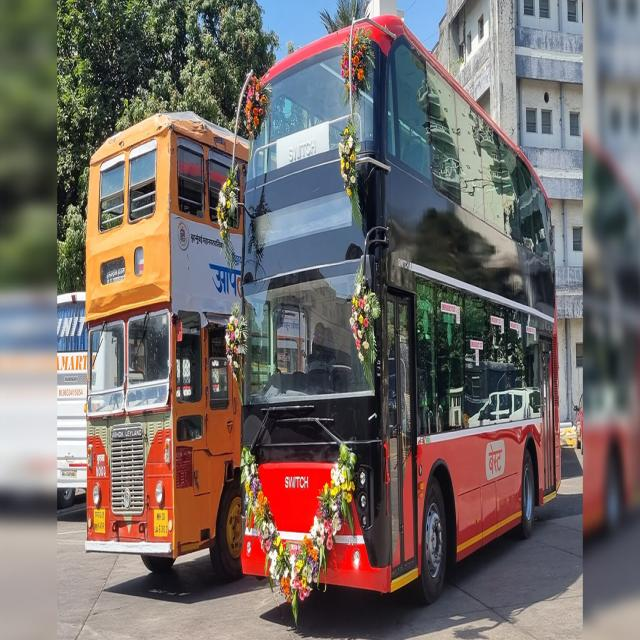bus: (241, 17, 561, 600), (85, 112, 242, 580)
